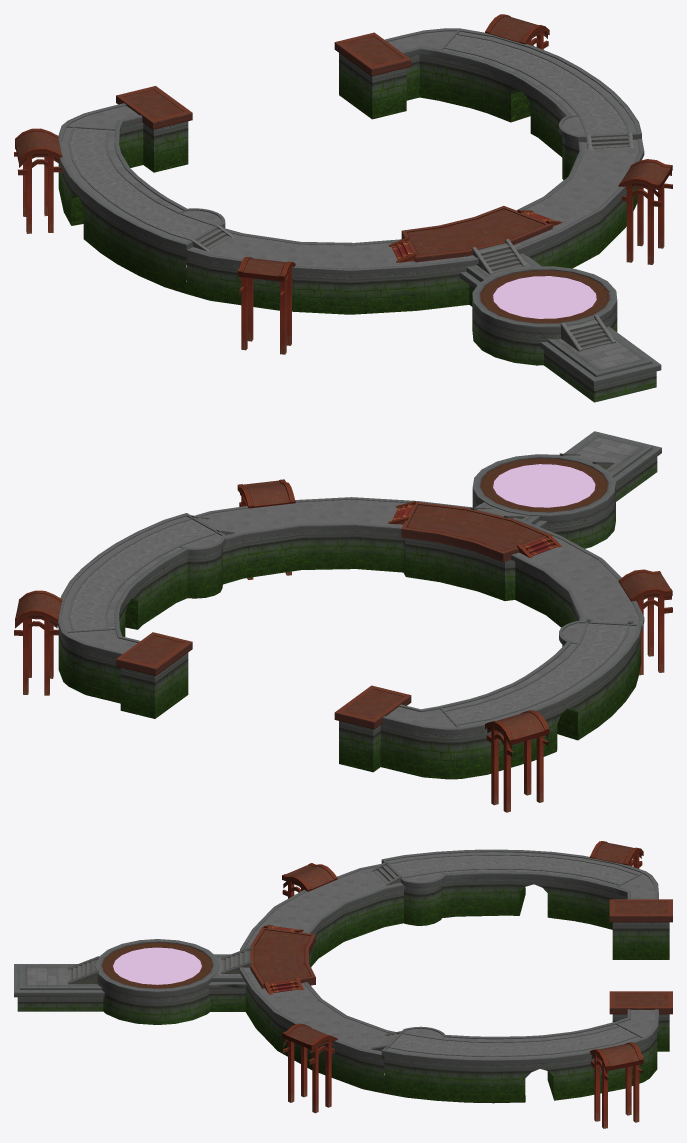
Rendered from ZYbui_CLF_ditai02.FBX.
The picture shows the model from 3 angles, top to bottom: view 1: azimuth 30°, elevation 25°; view 2: azimuth 150°, elevation 25°; view 3: azimuth 270°, elevation 25°; orthographic projection. The views are drawn at different scales.
Visible parts, largest first — view 1: ZYbui_CLF_ditai02, ZYbui_CLF_ditai03; view 2: ZYbui_CLF_ditai02, ZYbui_CLF_ditai03; view 3: ZYbui_CLF_ditai02, ZYbui_CLF_ditai03.
Boxes of the visible parts, <box> form: ZYbui_CLF_ditai02: <box>14,14,672,402</box>; ZYbui_CLF_ditai03: <box>493,276,596,318</box>; ZYbui_CLF_ditai02: <box>14,431,672,812</box>; ZYbui_CLF_ditai03: <box>493,464,595,507</box>; ZYbui_CLF_ditai02: <box>14,841,672,1128</box>; ZYbui_CLF_ditai03: <box>113,947,201,984</box>.
Size of the model in its own units: 5842 by 943 by 7296.
